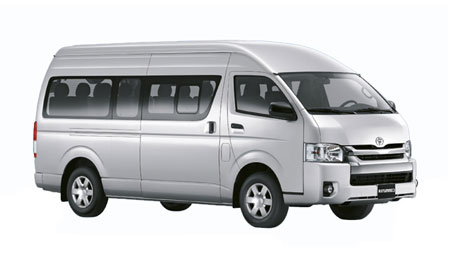van: (29, 38, 419, 229)
